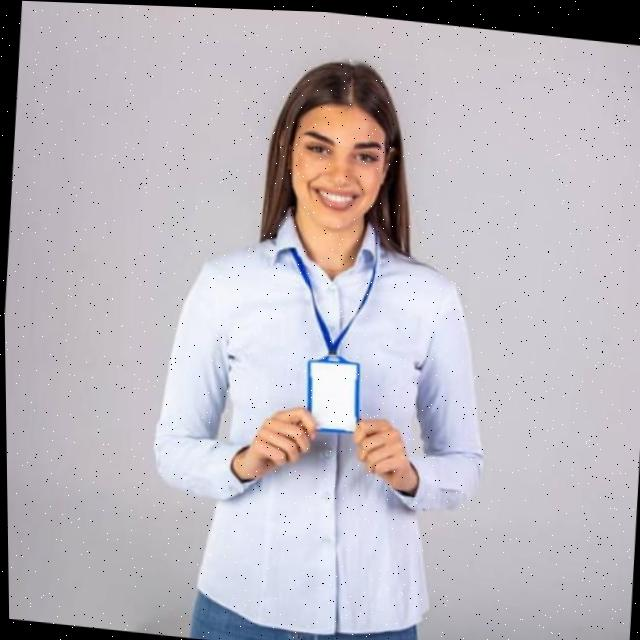id_card: (268, 223, 386, 444)
